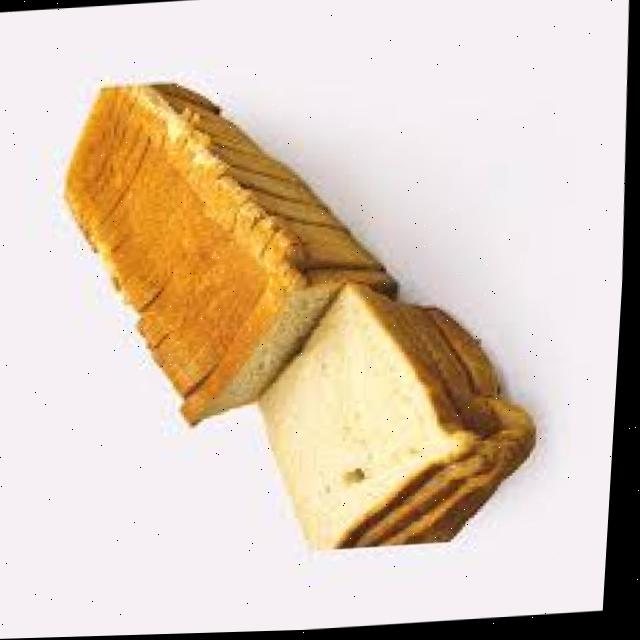Bread: (264, 284, 538, 550)
